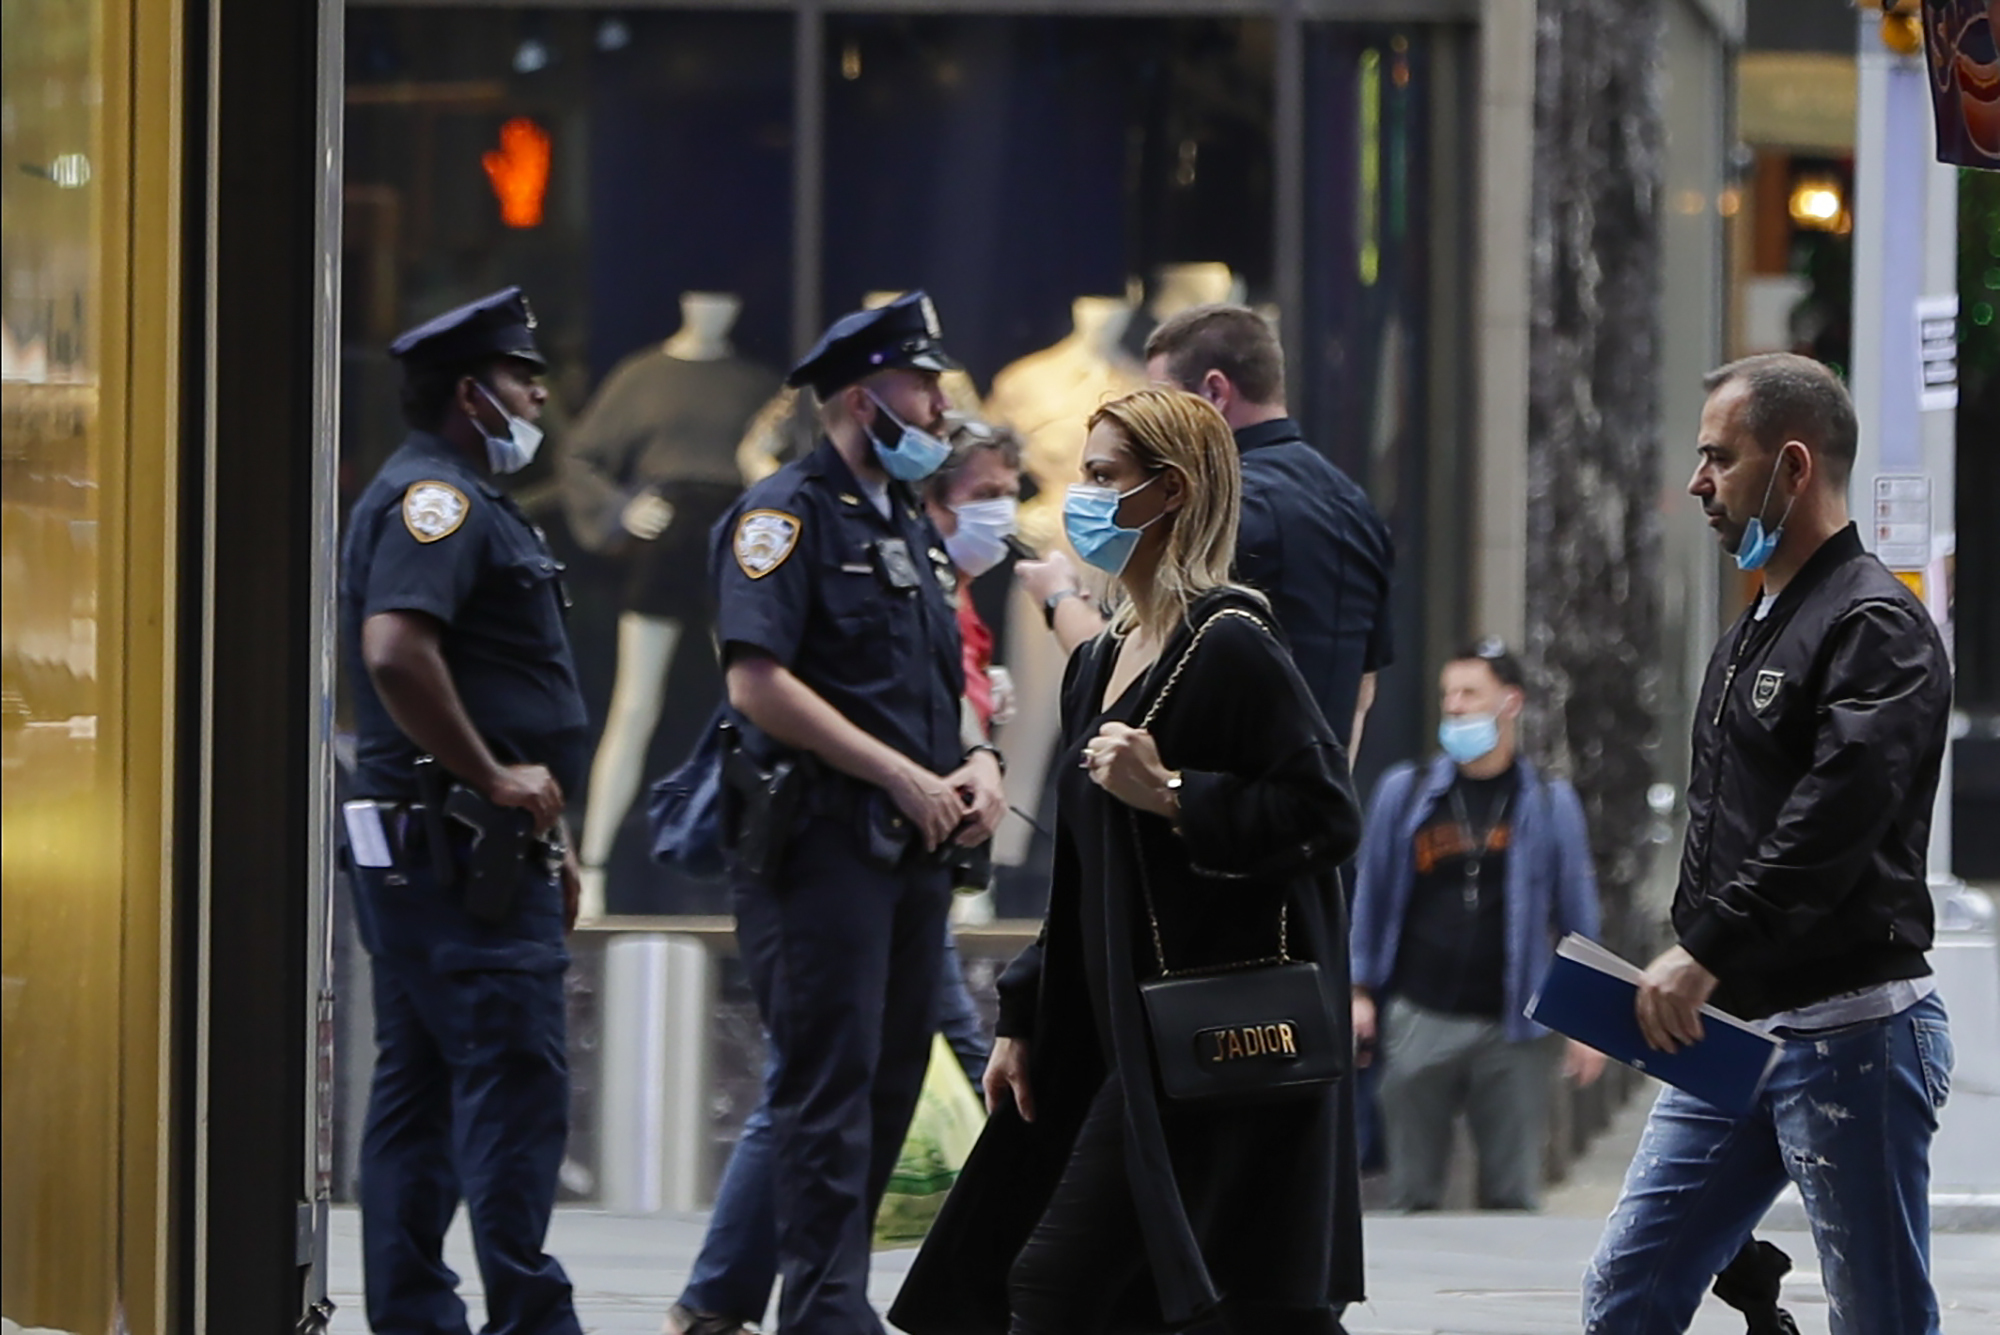mask_weared_incorrect: (1668, 412, 1825, 584), (856, 361, 951, 494), (462, 364, 553, 482), (1434, 660, 1520, 774)
with_mask: (1055, 429, 1184, 603)
